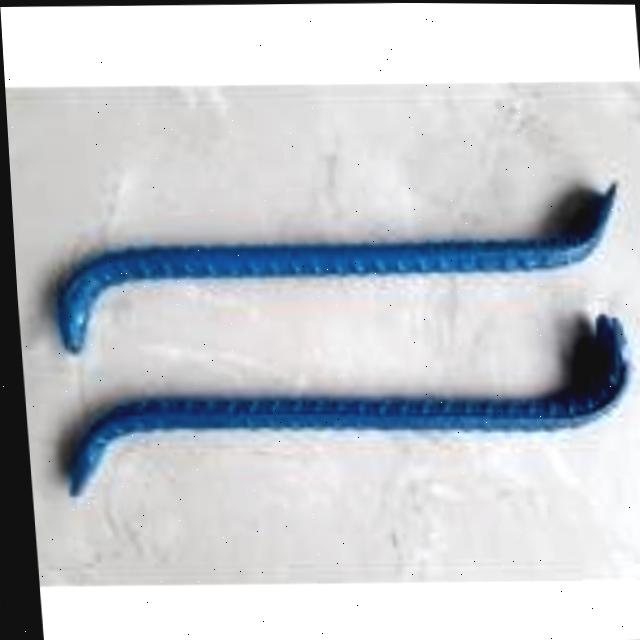crow bar: (64, 321, 625, 493), (53, 185, 619, 355)
